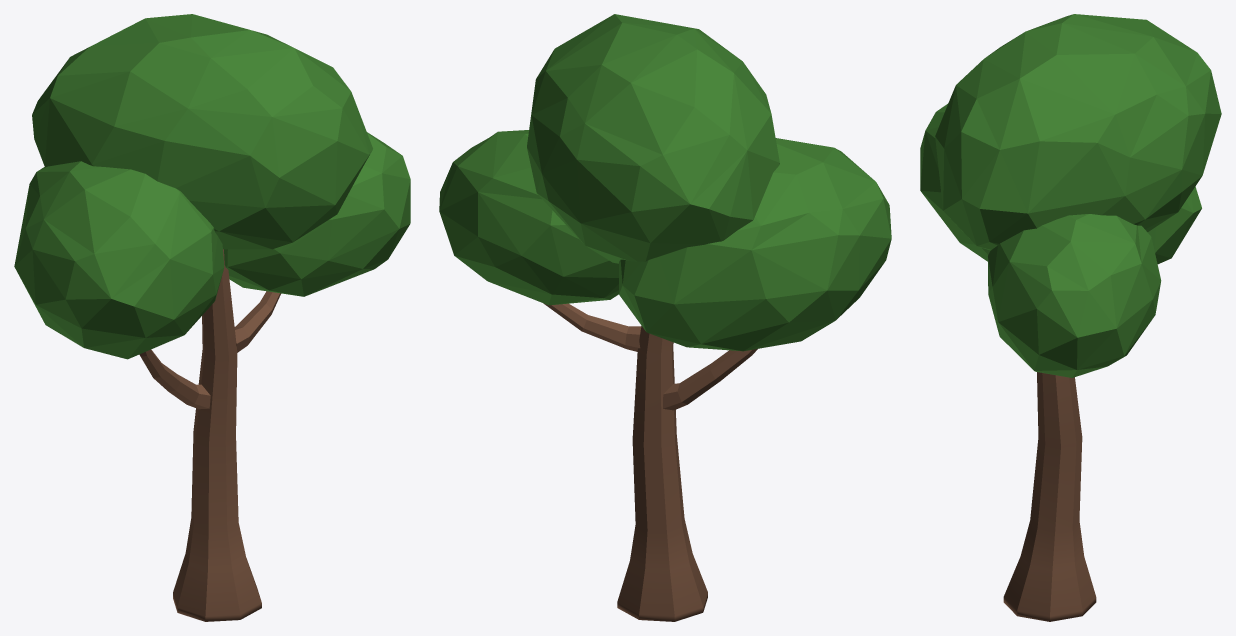
File: SM_Tree_Big.fbx
3 views of the same model, side by side, from view 1: azimuth 30°, elevation 25°; view 2: azimuth 150°, elevation 25°; view 3: azimuth 270°, elevation 25° (orthographic). The views are drawn at different scales.
Parts seen in each view (by area): view 1: Tree_Big; view 2: Tree_Big; view 3: Tree_Big.
Part boxes in pixels (bbox=[...]): Tree_Big: bbox=[14, 14, 410, 621]; Tree_Big: bbox=[439, 14, 891, 621]; Tree_Big: bbox=[920, 14, 1221, 621].
Bounding box in the file's own units: 584 × 803 × 385.
